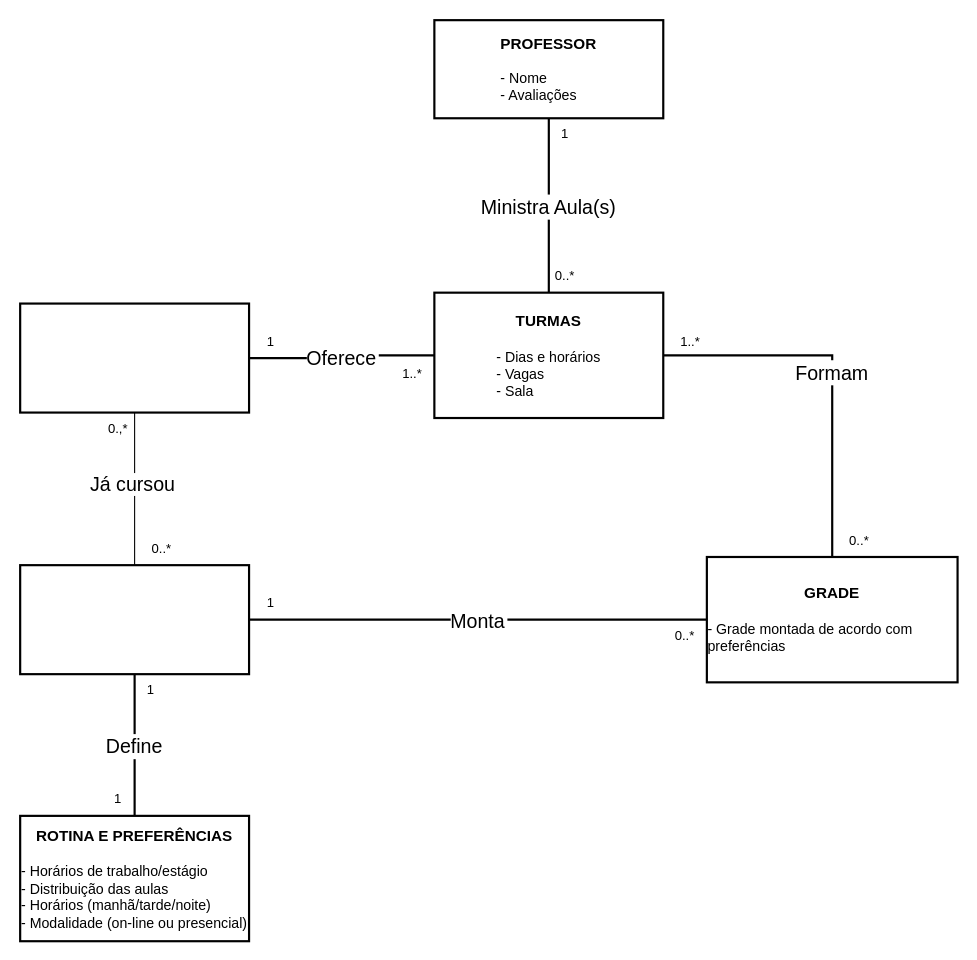
Some shapes in this 977 by 960 pixel diagram are drawn without their labels. Here are the shapes that lost their labels. From the top down, the centre of each, then its label:
At pixel 134 357: "DISCIPLINA - Código da disciplina - Nome da disciplina - Pré-requisitos".
At pixel 134 619: "ALUNO - Matrícula Puc-Rio - Senha Puc-Rio".
